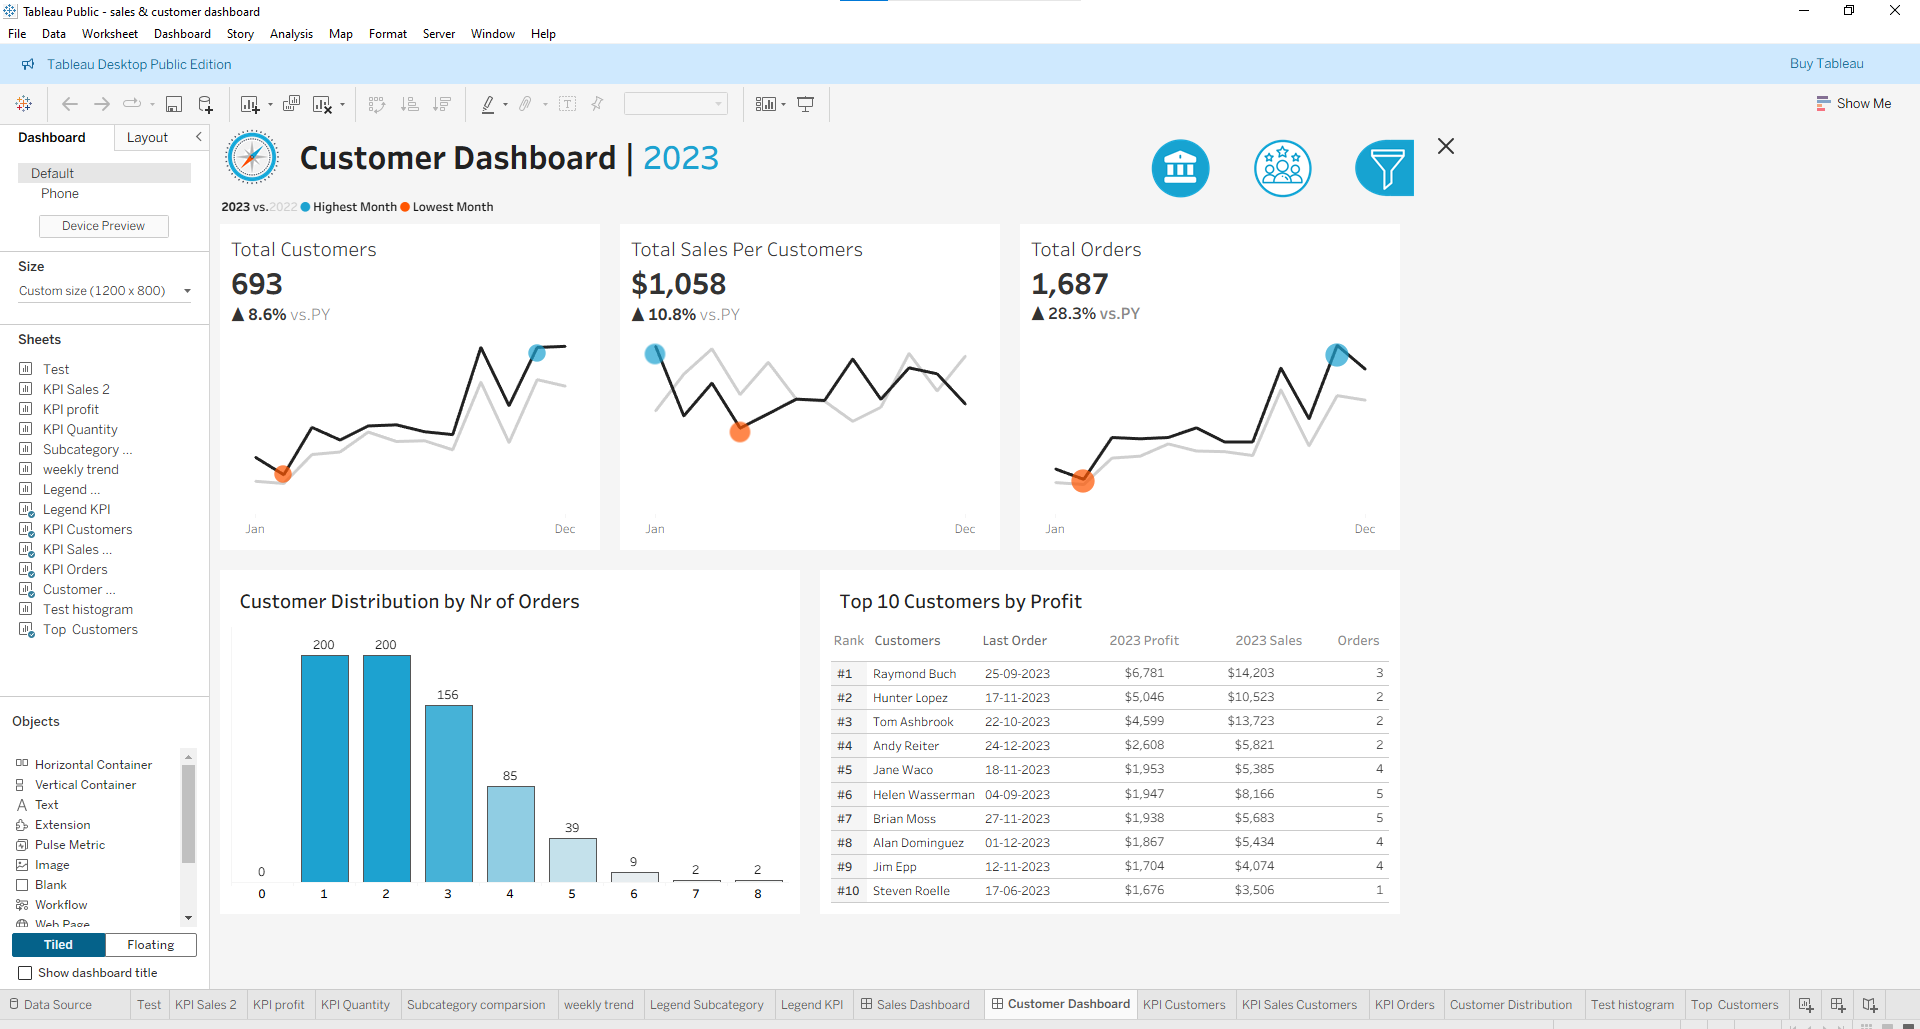

The page's visual inventory and layout, read from the dashboard file:
{"tool":"tableau","page":{"name":"Customer Dashboard","canvas":[1200,800],"ordinal":0},"visuals":[{"type":"image","param":"E:/Projects/Tableau project/Icons/Icon - Logo.png","box":[0,0,83,65]},{"type":"text","box":[83,0,1117,65]},{"type":"dashboard-object","box":[919,10,102,68]},{"type":"blank","box":[938,10,250,85]},{"type":"dashboard-object","box":[1021,10,102,68]},{"type":"worksheet","title":"Legend KPI","mark":"Automatic","box":[0,65,1200,35]},{"type":"text","box":[938,95,250,34]},{"type":"worksheet","title":"KPI Customers","mark":"Automatic","rows":["Calculation_0938485202698250"],"cols":["Order Date"],"box":[0,100,400,336]},{"type":"worksheet","title":"KPI Sales Customers","mark":"Automatic","rows":["Calculation_0938485203390476"],"cols":["Order Date"],"box":[400,100,400,336]},{"type":"worksheet","title":"KPI Orders","mark":"Automatic","rows":["Calculation_0938485203157003"],"cols":["Order Date"],"box":[800,100,400,336]},{"type":"parameter","param":"[Parameters].[Parameter 1]","box":[938,129,250,52]},{"type":"text","box":[938,181,250,29]},{"type":"filter","title":"KPI Customers","param":"[federated.082fdyg0o6ct4d0zjkqqm063pek3].[none:Category:nk]","box":[938,210,250,52]},{"type":"filter","title":"KPI Customers","param":"[federated.082fdyg0o6ct4d0zjkqqm063pek3].[none:Sub-Category:nk]","box":[938,262,250,52]},{"type":"blank","box":[938,314,250,51]},{"type":"text","box":[938,365,250,29]},{"type":"filter","title":"KPI Customers","param":"[federated.082fdyg0o6ct4d0zjkqqm063pek3].[none:Region:nk]","box":[938,394,250,52]},{"type":"filter","title":"KPI Customers","param":"[federated.082fdyg0o6ct4d0zjkqqm063pek3].[none:State:nk]","box":[938,446,250,52]},{"type":"text","box":[17,453,566,46]},{"type":"text","box":[617,453,566,46]},{"type":"filter","title":"KPI Customers","param":"[federated.082fdyg0o6ct4d0zjkqqm063pek3].[none:City:nk]","box":[938,498,250,52]},{"type":"worksheet","title":"Customer Distribution","mark":"Bar","rows":["Calculation_0938485198491648"],"cols":["Calculation_0938485199179778"],"box":[17,499,566,284]},{"type":"text","box":[617,499,41,34]},{"type":"text","box":[658,499,108,34]},{"type":"text","box":[766,499,127,34]},{"type":"text","box":[893,499,126,34]},{"type":"text","box":[1019,499,102,34]},{"type":"text","box":[1121,499,62,34]},{"type":"worksheet","title":"Top  Customers","mark":"Automatic","rows":["Calculation_0397251387158531","Customer Name","Order Date"],"box":[617,533,566,250]}]}

Visuals, with their boxes on the page's 1200x800 design canvas (x1, y1, x2, y2). These are canvas units, not pixel positions in the 1920x1029 screenshot, which may show the page scaled, cropped or inside an application window:
image: [0, 0, 83, 65]
text: [83, 0, 1200, 65]
dashboard-object: [919, 10, 1021, 78]
blank: [938, 10, 1188, 95]
dashboard-object: [1021, 10, 1123, 78]
"Legend KPI" worksheet: [0, 65, 1200, 100]
text: [938, 95, 1188, 129]
"KPI Customers" worksheet: [0, 100, 400, 436]
"KPI Sales Customers" worksheet: [400, 100, 800, 436]
"KPI Orders" worksheet: [800, 100, 1200, 436]
parameter: [938, 129, 1188, 181]
text: [938, 181, 1188, 210]
"KPI Customers" filter: [938, 210, 1188, 262]
"KPI Customers" filter: [938, 262, 1188, 314]
blank: [938, 314, 1188, 365]
text: [938, 365, 1188, 394]
"KPI Customers" filter: [938, 394, 1188, 446]
"KPI Customers" filter: [938, 446, 1188, 498]
text: [17, 453, 583, 499]
text: [617, 453, 1183, 499]
"KPI Customers" filter: [938, 498, 1188, 550]
"Customer Distribution" worksheet (Bar marks): [17, 499, 583, 783]
text: [617, 499, 658, 533]
text: [658, 499, 766, 533]
text: [766, 499, 893, 533]
text: [893, 499, 1019, 533]
text: [1019, 499, 1121, 533]
text: [1121, 499, 1183, 533]
"Top  Customers" worksheet: [617, 533, 1183, 783]
